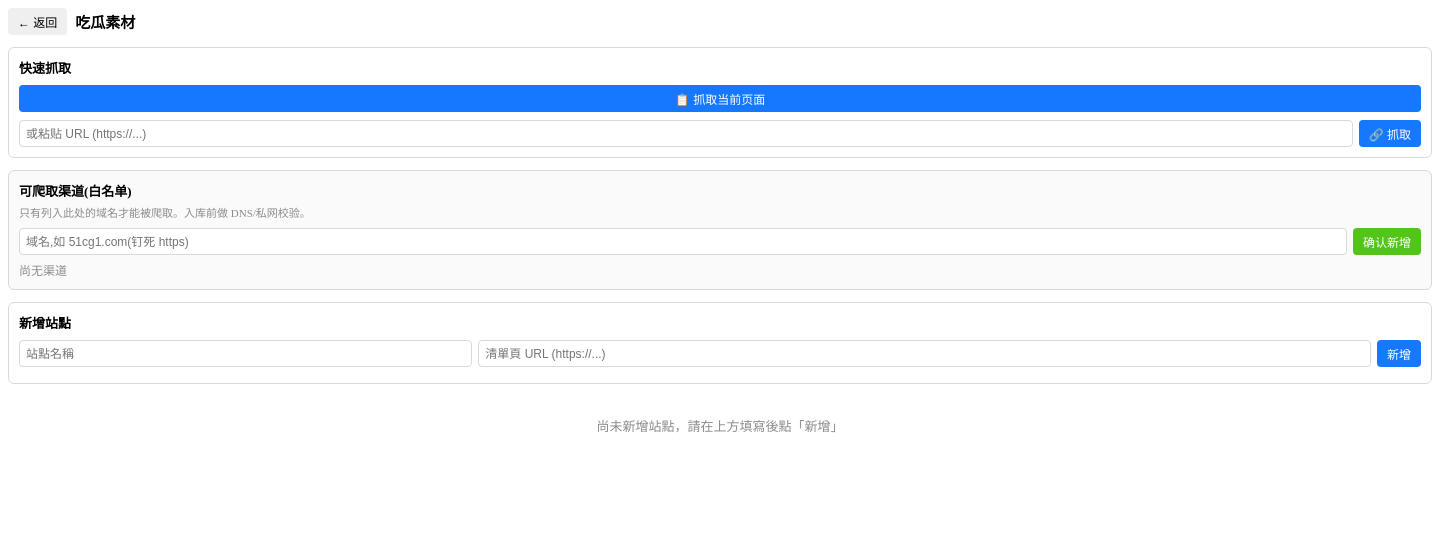
GossipView › POST /gossip/sites 返回錯誤 → 顯示錯誤訊息不 crash
The image size is (1440, 553).
Type "壞站點" into the field with placeholder "站點名稱". click: {"x": 246, "y": 354}
box: [19,340,472,367]
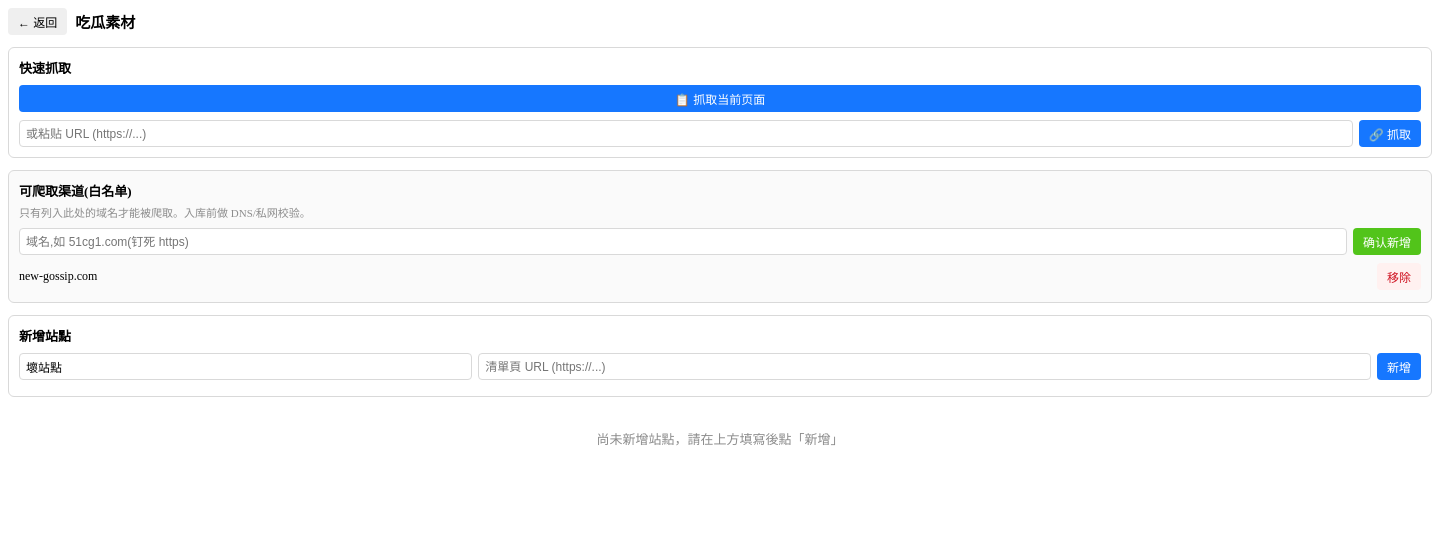
Type "http://192.168.1.1/list" into the field with placeholder "清單頁 URL (https://...)". click: {"x": 925, "y": 366}
box: [478,353,1371,380]
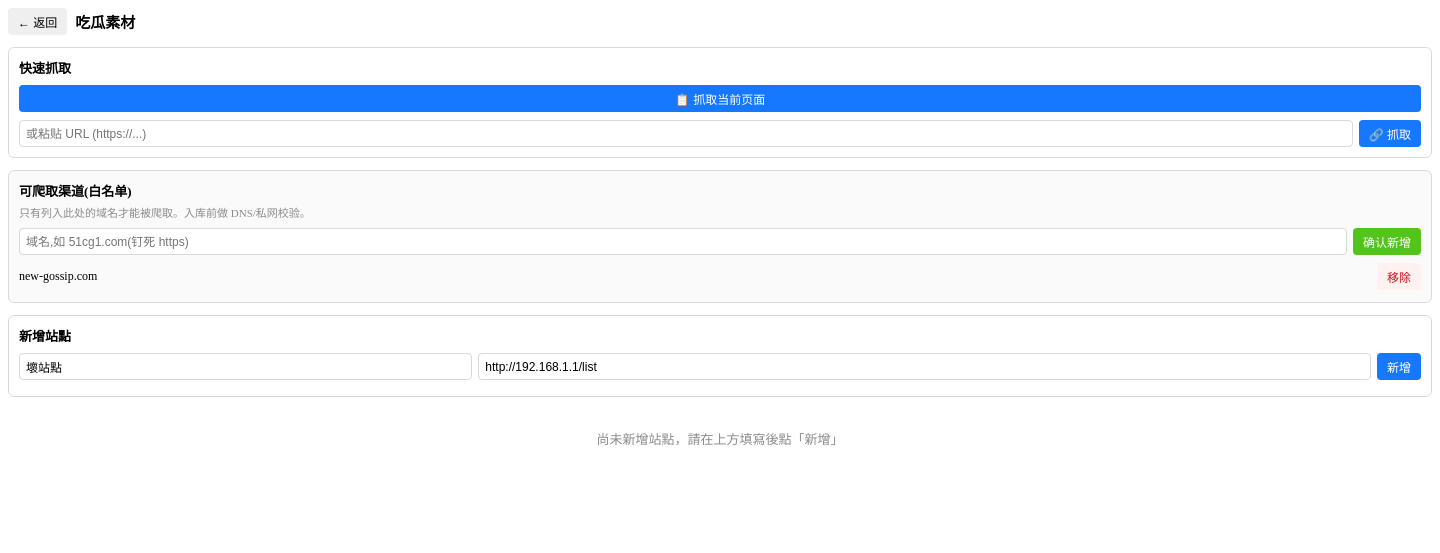
Click the button "新增". click: {"x": 1399, "y": 366}
box: [1377,353,1421,380]
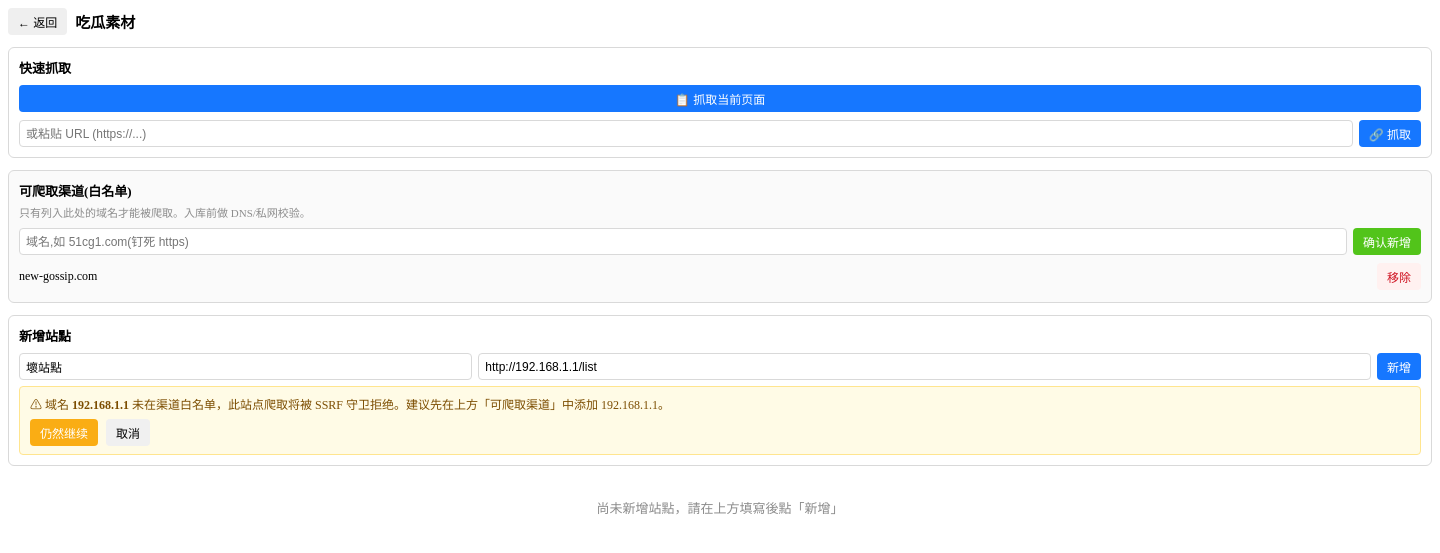
Expected: the button "仍然继续" is shown
Click the button "仍然继续". click: {"x": 64, "y": 432}
box: [30,419,98,446]
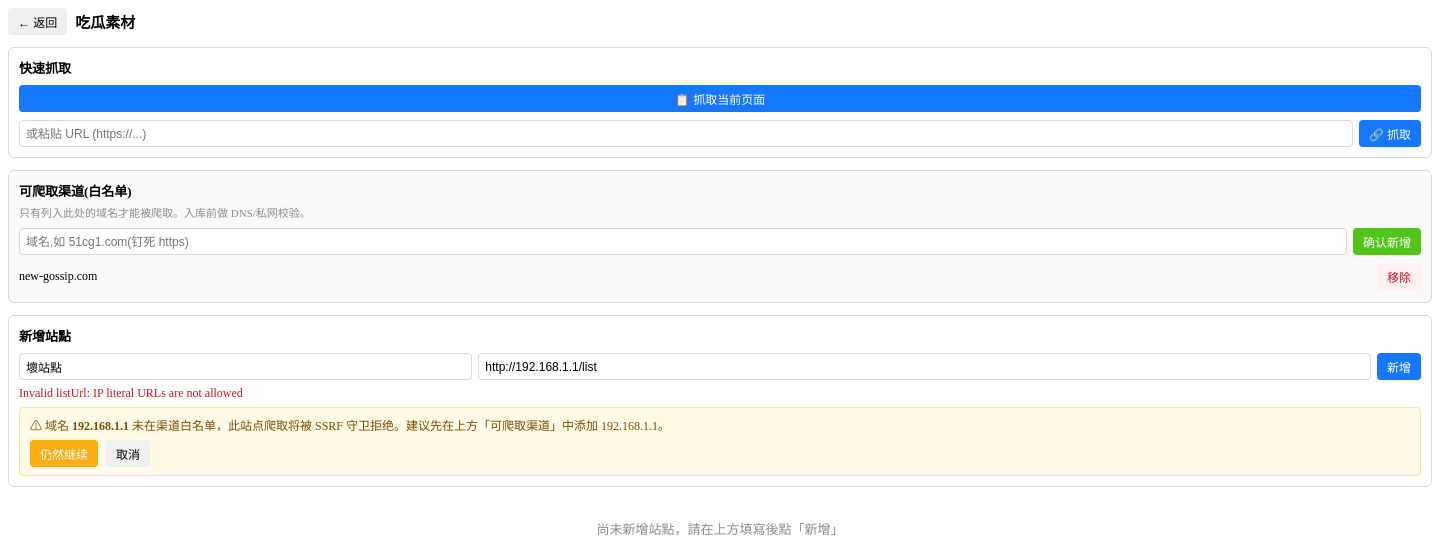
Expected: the text "Invalid listUrl: IP literal URLs are not allowed" is shown, [19,386,243,400]
